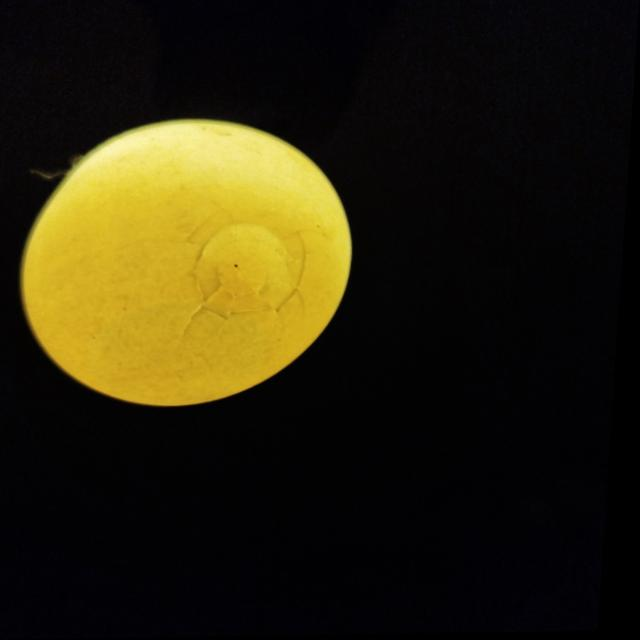Rachadura: (181, 206, 323, 346)
